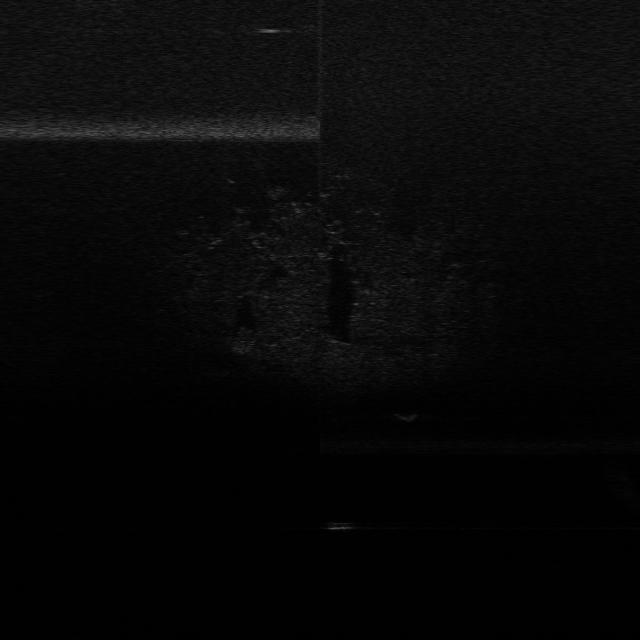cube: (321, 519, 358, 533)
square cage: (392, 410, 421, 424)
